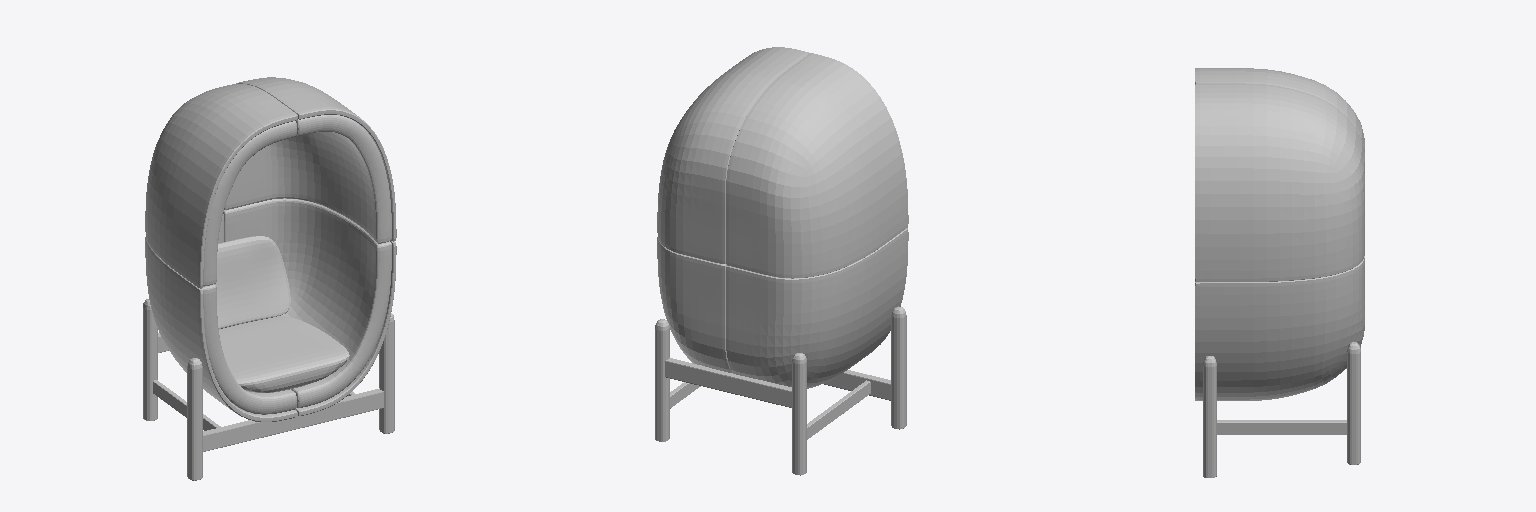
File: 1seter_obj.obj
3 views of the same model, side by side, from view 1: azimuth 30°, elevation 25°; view 2: azimuth 150°, elevation 25°; view 3: azimuth 270°, elevation 25° (orthographic).
Visible parts, largest first — view 1: Pod_1_Mesh_Cube.162; view 2: Pod_1_Mesh_Cube.162; view 3: Pod_1_Mesh_Cube.162.
Boxes of the visible parts, box(x1,y1,x2,y2) form: Pod_1_Mesh_Cube.162: box(143, 77, 396, 480); Pod_1_Mesh_Cube.162: box(655, 47, 908, 475); Pod_1_Mesh_Cube.162: box(1195, 68, 1364, 477).
Size of the model in its own units: 1.71 by 2.77 by 1.24.